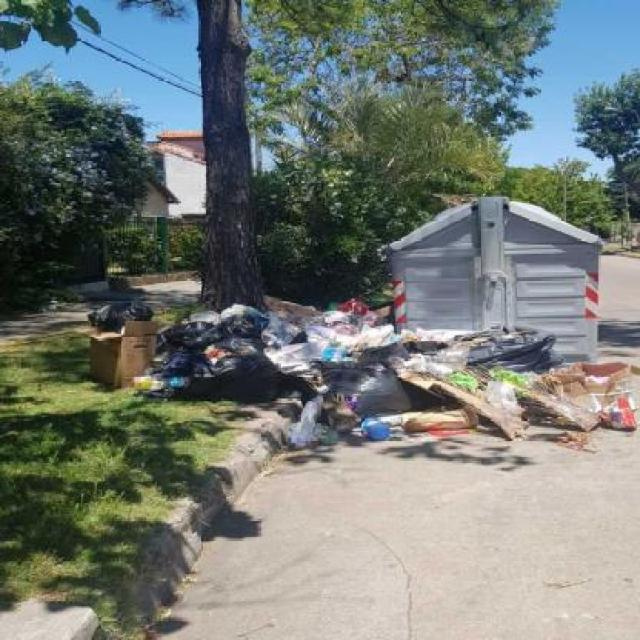garbage: (174, 302, 640, 436), (85, 308, 174, 394)
